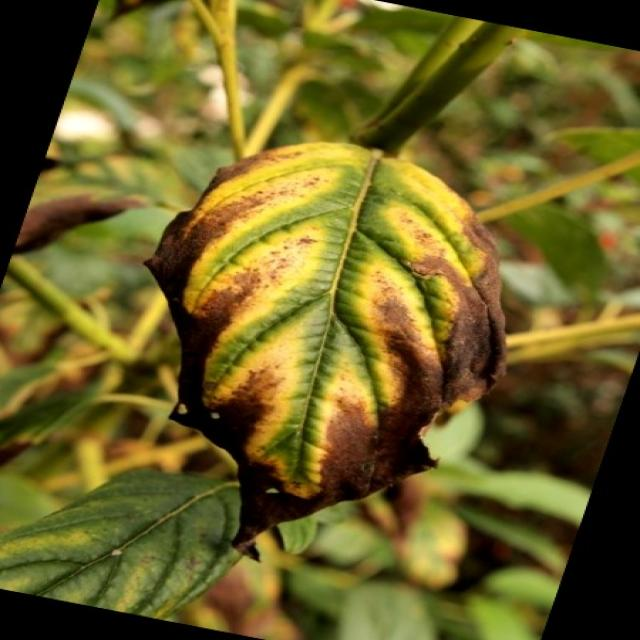Chlorosis: (144, 120, 480, 526)
